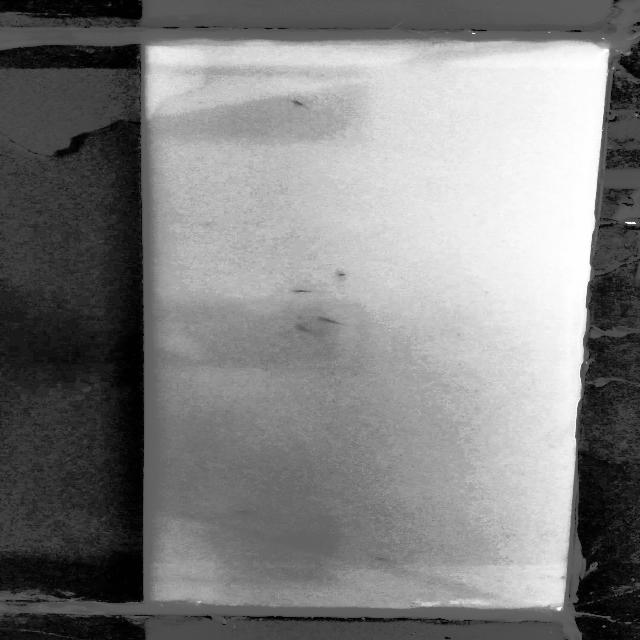shrimp: (276, 91, 314, 116), (230, 505, 257, 520), (289, 286, 328, 296), (316, 315, 344, 326), (369, 553, 392, 565), (335, 270, 354, 284), (293, 320, 309, 336)
